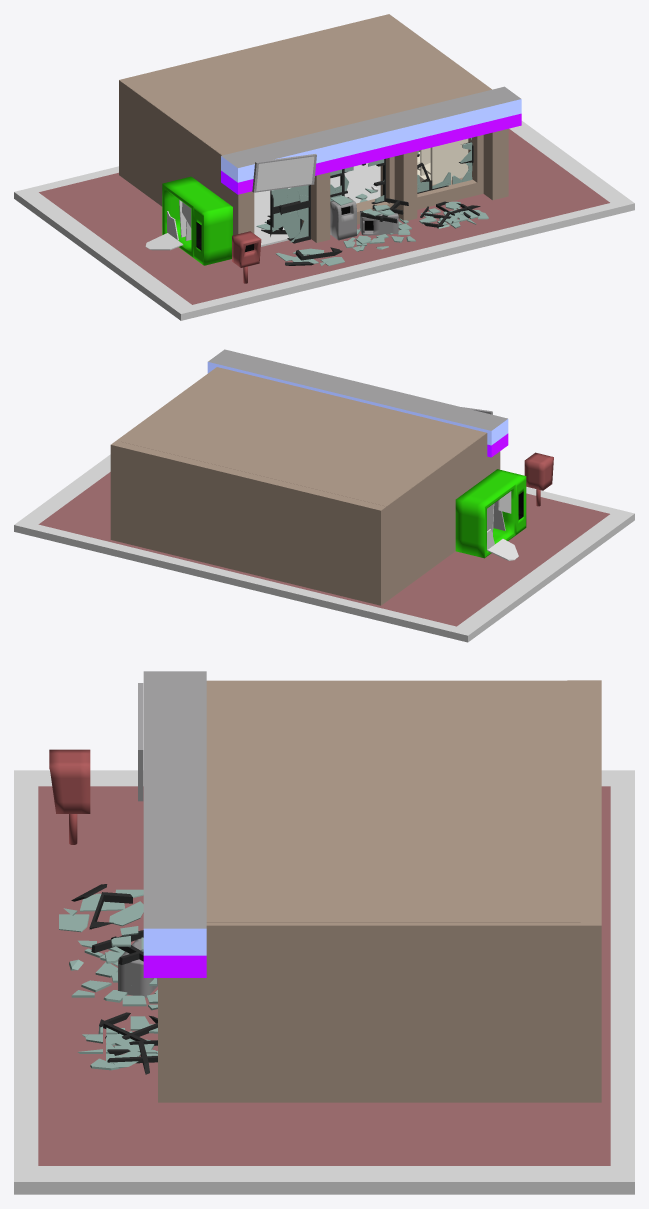
The model's file is Store_Destroy.fbx.
The picture shows the model from 3 angles, top to bottom: view 1: azimuth 30°, elevation 25°; view 2: azimuth 150°, elevation 25°; view 3: azimuth 270°, elevation 25°; orthographic projection. The views are drawn at different scales.
Parts seen in each view (by area): view 1: Plane.001, Roof, Light_Purple_Blue, Right_Wall, Cube.012, Front_Pilar, Back_Wall, Frot_wall, Left_Wall, Floor, Name_Sign, Cube.015 (+4 smaller); view 2: Back_Wall, Roof, Plane.001, Right_Wall, Light_Purple_Blue, Cube.012, Cube.004, Cube.014_cell.004; view 3: Plane.001, Roof, Left_Wall, Light_Purple_Blue, Back_Wall, Cube.004, Cube.005.
Part boxes in pixels (x1,y1,x2,y2): Plane.001: (14, 121, 634, 320); Roof: (125, 19, 488, 155); Light_Purple_Blue: (221, 86, 521, 194); Right_Wall: (128, 86, 254, 235); Cube.012: (162, 176, 232, 265); Front_Pilar: (311, 151, 417, 242); Back_Wall: (119, 14, 397, 181); Frot_wall: (302, 135, 483, 224); Left_Wall: (395, 21, 508, 200); Floor: (254, 163, 380, 246); Name_Sign: (252, 154, 316, 192); Cube.015: (417, 138, 468, 184); Back_Wall: (110, 438, 390, 605); Roof: (120, 368, 486, 506); Plane.001: (14, 454, 634, 642); Right_Wall: (390, 433, 500, 598); Light_Purple_Blue: (207, 349, 508, 457); Cube.012: (455, 469, 526, 558); Cube.004: (524, 452, 553, 490); Cube.014_cell.004: (487, 539, 518, 560); Plane.001: (14, 770, 634, 1194); Roof: (206, 680, 580, 922); Left_Wall: (158, 922, 580, 1102); Light_Purple_Blue: (143, 671, 206, 977); Back_Wall: (567, 680, 601, 1102); Cube.004: (49, 749, 90, 813); Cube.005: (118, 938, 157, 997).
Bounding box in the file's own units: 1707 × 384 × 1087.
